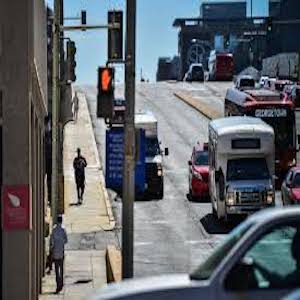red: (98, 67, 115, 96)
